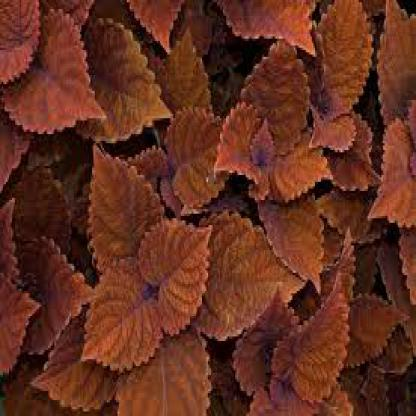Bunga Coleus: (9, 19, 410, 390)
